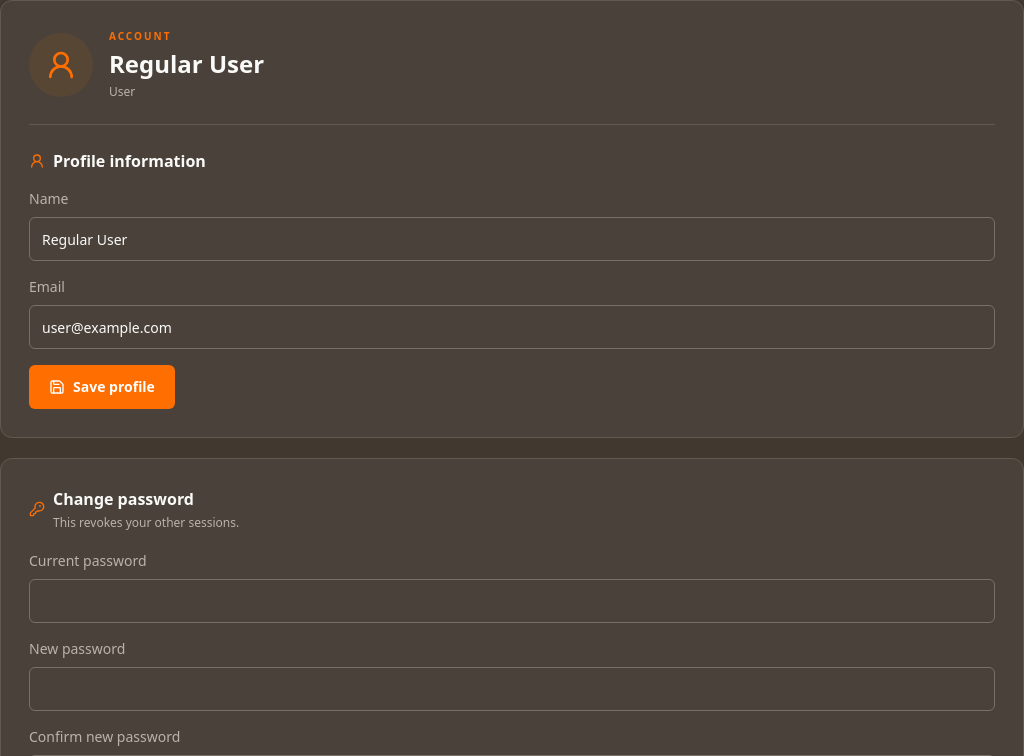
Test: ProfileSettings › changes passwords through the API and publishes the refreshed user
Type "CurrentPassword1!" into the password field labelled "Current password" at {"x": 512, "y": 601}, box [29, 579, 995, 623]
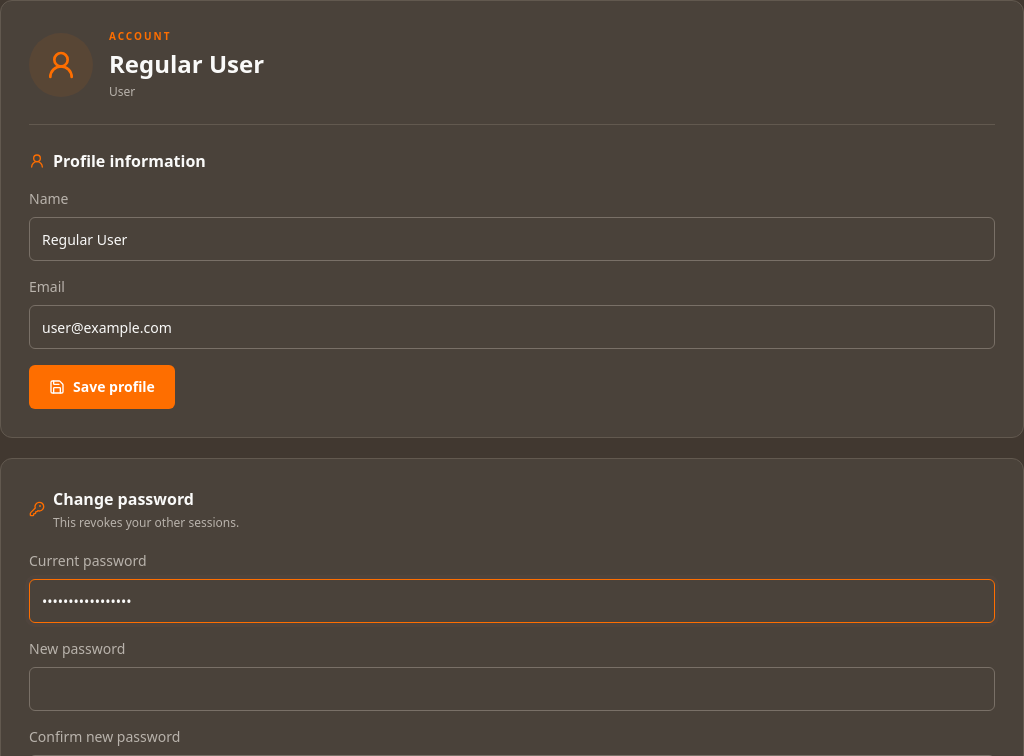
Type "PermanentPassword2!" into the password field labelled "New password" at {"x": 512, "y": 689}, box [29, 667, 995, 711]
(page scrolled)
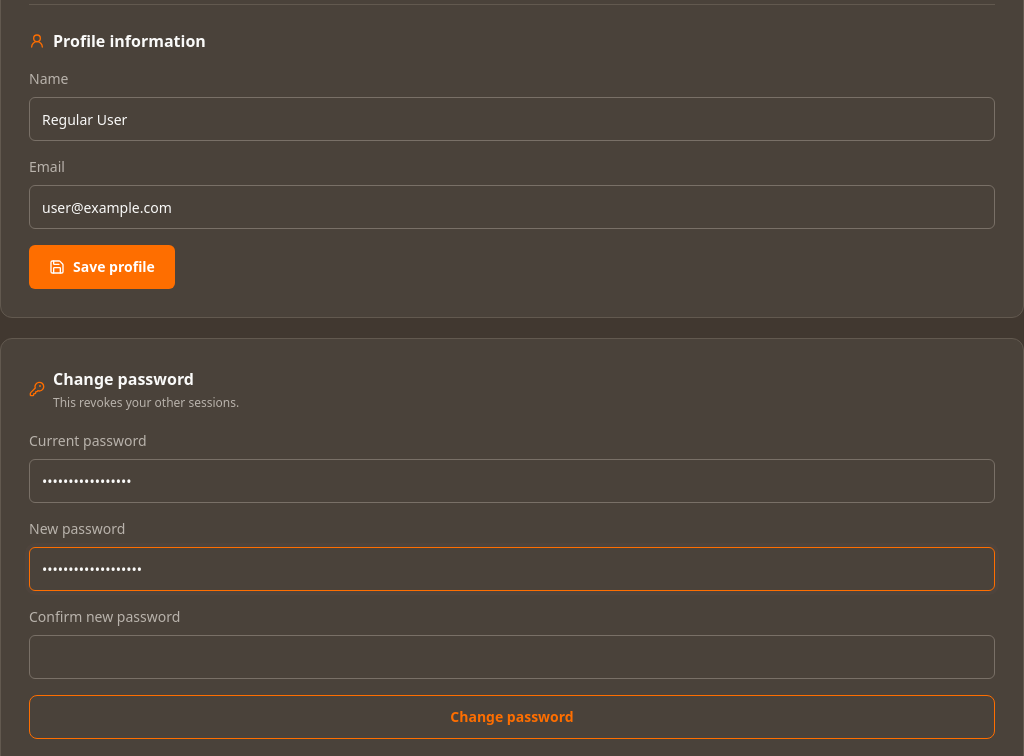
Type "PermanentPassword2!" into the password field labelled "Confirm new password" at {"x": 512, "y": 657}, box [29, 635, 995, 679]
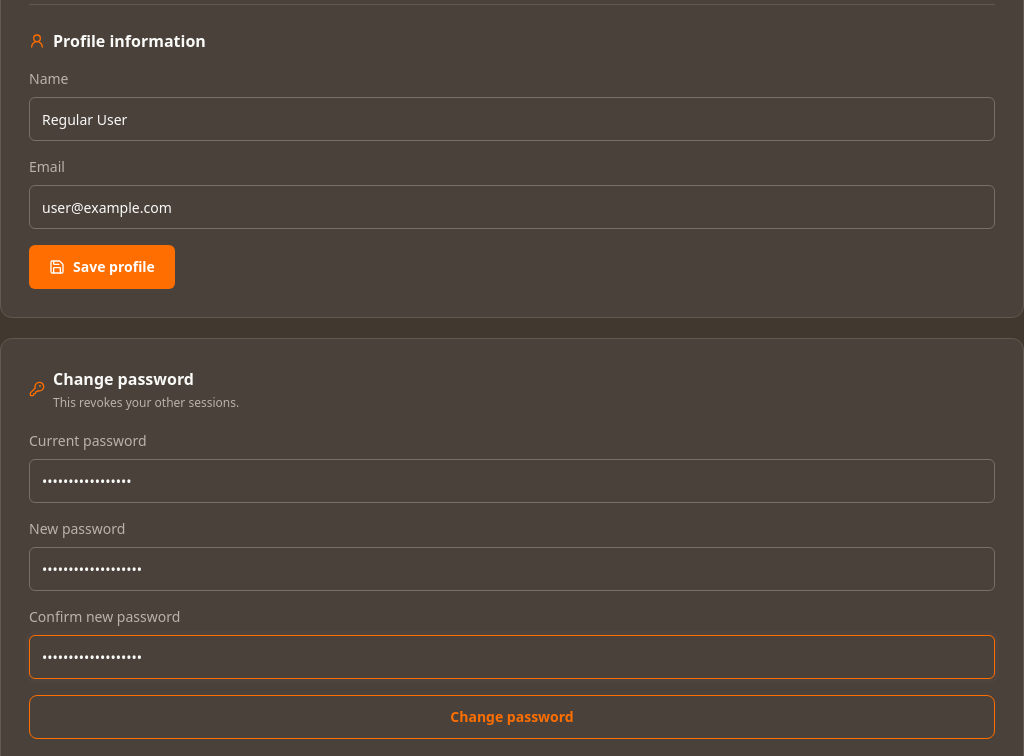
Click the button "Change password" at {"x": 512, "y": 717}, box [29, 695, 995, 739]
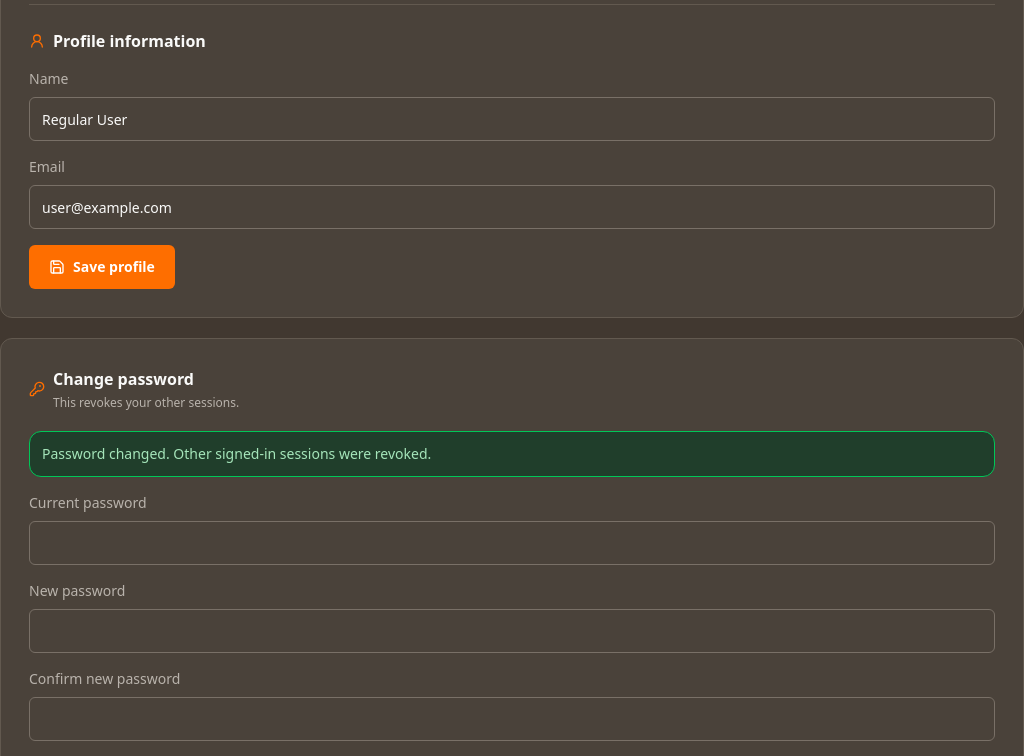
Now the text "Password changed. Other signed-in sessions were revoked." is shown, box [29, 431, 995, 477]
